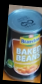beans: (2, 9, 42, 81)
